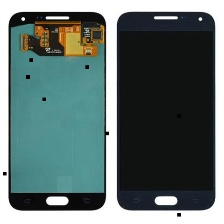phone: (110, 6, 217, 212), (6, 8, 107, 214)
